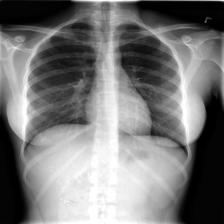normal: (18, 18, 193, 168)
